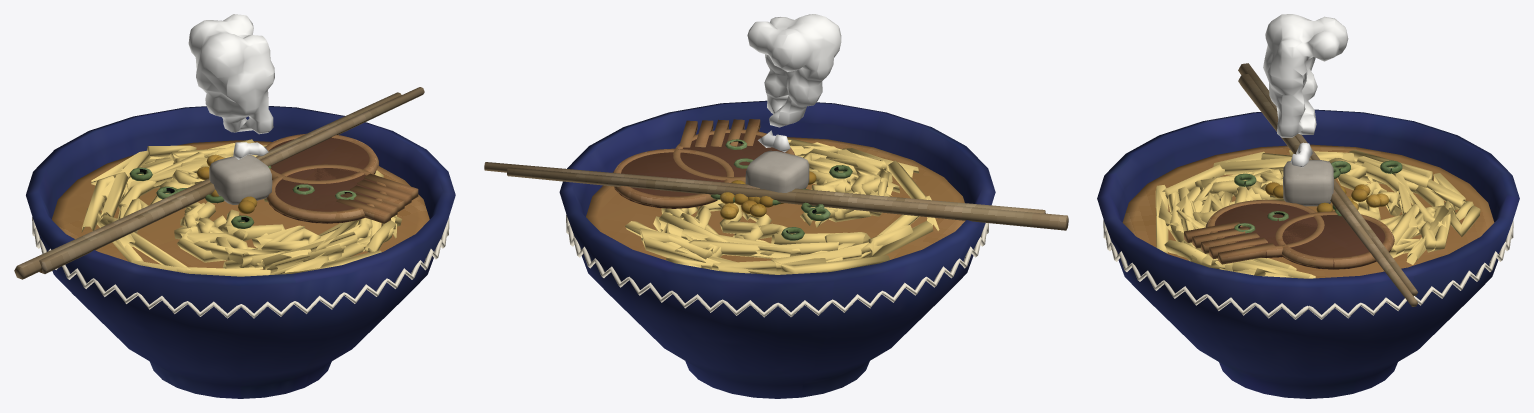
Rendered from ramen_miso.glb.
The picture shows the model from 3 angles, left to right: view 1: azimuth 30°, elevation 25°; view 2: azimuth 150°, elevation 25°; view 3: azimuth 270°, elevation 25°; orthographic projection. The views are drawn at different scales.
Visible parts, largest first — view 1: ramen_miso_felt_navy2, ramen_miso_yarn_noodle, ramen_miso_steam2, ramen_miso_felt_broth_miso, ramen_miso_wood_light, ramen_miso_felt_tan, ramen_miso_felt_brown, ramen_miso_thread, ramen_miso_felt_cream, ramen_miso_felt_green, ramen_miso_felt_yellow; view 2: ramen_miso_felt_navy2, ramen_miso_yarn_noodle, ramen_miso_felt_broth_miso, ramen_miso_wood_light, ramen_miso_steam2, ramen_miso_felt_tan, ramen_miso_felt_brown, ramen_miso_thread, ramen_miso_felt_cream, ramen_miso_felt_green, ramen_miso_felt_yellow; view 3: ramen_miso_felt_navy2, ramen_miso_yarn_noodle, ramen_miso_felt_broth_miso, ramen_miso_steam2, ramen_miso_felt_tan, ramen_miso_felt_brown, ramen_miso_wood_light, ramen_miso_thread, ramen_miso_felt_cream, ramen_miso_felt_green, ramen_miso_felt_yellow.
Boxes of the visible parts, x1=… form: ramen_miso_felt_navy2: x1=26, y1=106, x2=455, y2=398; ramen_miso_yarn_noodle: x1=81, y1=139, x2=401, y2=276; ramen_miso_steam2: x1=188, y1=14, x2=274, y2=159; ramen_miso_felt_broth_miso: x1=52, y1=140, x2=429, y2=269; ramen_miso_wood_light: x1=14, y1=87, x2=424, y2=279; ramen_miso_felt_tan: x1=265, y1=133, x2=418, y2=223; ramen_miso_felt_brown: x1=268, y1=138, x2=379, y2=223; ramen_miso_thread: x1=32, y1=217, x2=449, y2=318; ramen_miso_felt_cream: x1=209, y1=154, x2=272, y2=204; ramen_miso_felt_green: x1=129, y1=166, x2=356, y2=228; ramen_miso_felt_yellow: x1=197, y1=154, x2=257, y2=213; ramen_miso_felt_navy2: x1=559, y1=100, x2=995, y2=398; ramen_miso_yarn_noodle: x1=625, y1=138, x2=939, y2=274; ramen_miso_felt_broth_miso: x1=586, y1=137, x2=964, y2=262; ramen_miso_wood_light: x1=484, y1=162, x2=1068, y2=230; ramen_miso_steam2: x1=747, y1=14, x2=841, y2=152; ramen_miso_felt_tan: x1=613, y1=119, x2=794, y2=208; ramen_miso_felt_brown: x1=614, y1=133, x2=785, y2=208; ramen_miso_thread: x1=566, y1=215, x2=988, y2=317; ramen_miso_felt_cream: x1=745, y1=150, x2=809, y2=192; ramen_miso_felt_green: x1=710, y1=139, x2=852, y2=240; ramen_miso_felt_yellow: x1=720, y1=171, x2=816, y2=219; ramen_miso_felt_navy2: x1=1097, y1=109, x2=1519, y2=398; ramen_miso_yarn_noodle: x1=1155, y1=150, x2=1480, y2=278; ramen_miso_felt_broth_miso: x1=1122, y1=144, x2=1494, y2=278; ramen_miso_steam2: x1=1263, y1=14, x2=1348, y2=167; ramen_miso_felt_tan: x1=1184, y1=199, x2=1394, y2=269; ramen_miso_felt_brown: x1=1214, y1=203, x2=1391, y2=269; ramen_miso_wood_light: x1=1238, y1=63, x2=1417, y2=306; ramen_miso_thread: x1=1103, y1=220, x2=1513, y2=319; ramen_miso_felt_cream: x1=1283, y1=160, x2=1333, y2=206; ramen_miso_felt_green: x1=1234, y1=160, x2=1402, y2=233; ramen_miso_felt_yellow: x1=1265, y1=182, x2=1389, y2=212.
Size of the model in its own units: 0.3955 by 0.2611 by 0.3.
11 materials, 8 textured.
